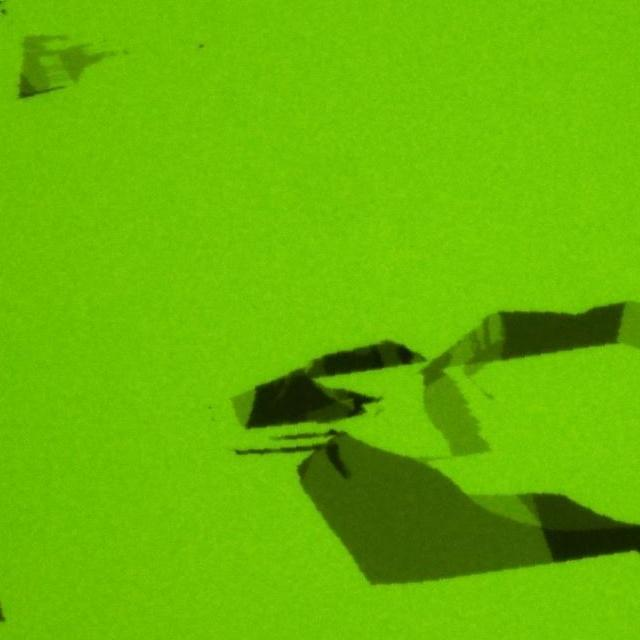monolayer-eWW4: (425, 373, 492, 457), (468, 488, 536, 528), (22, 33, 54, 92), (60, 44, 96, 83), (233, 387, 256, 424), (448, 336, 471, 365)
